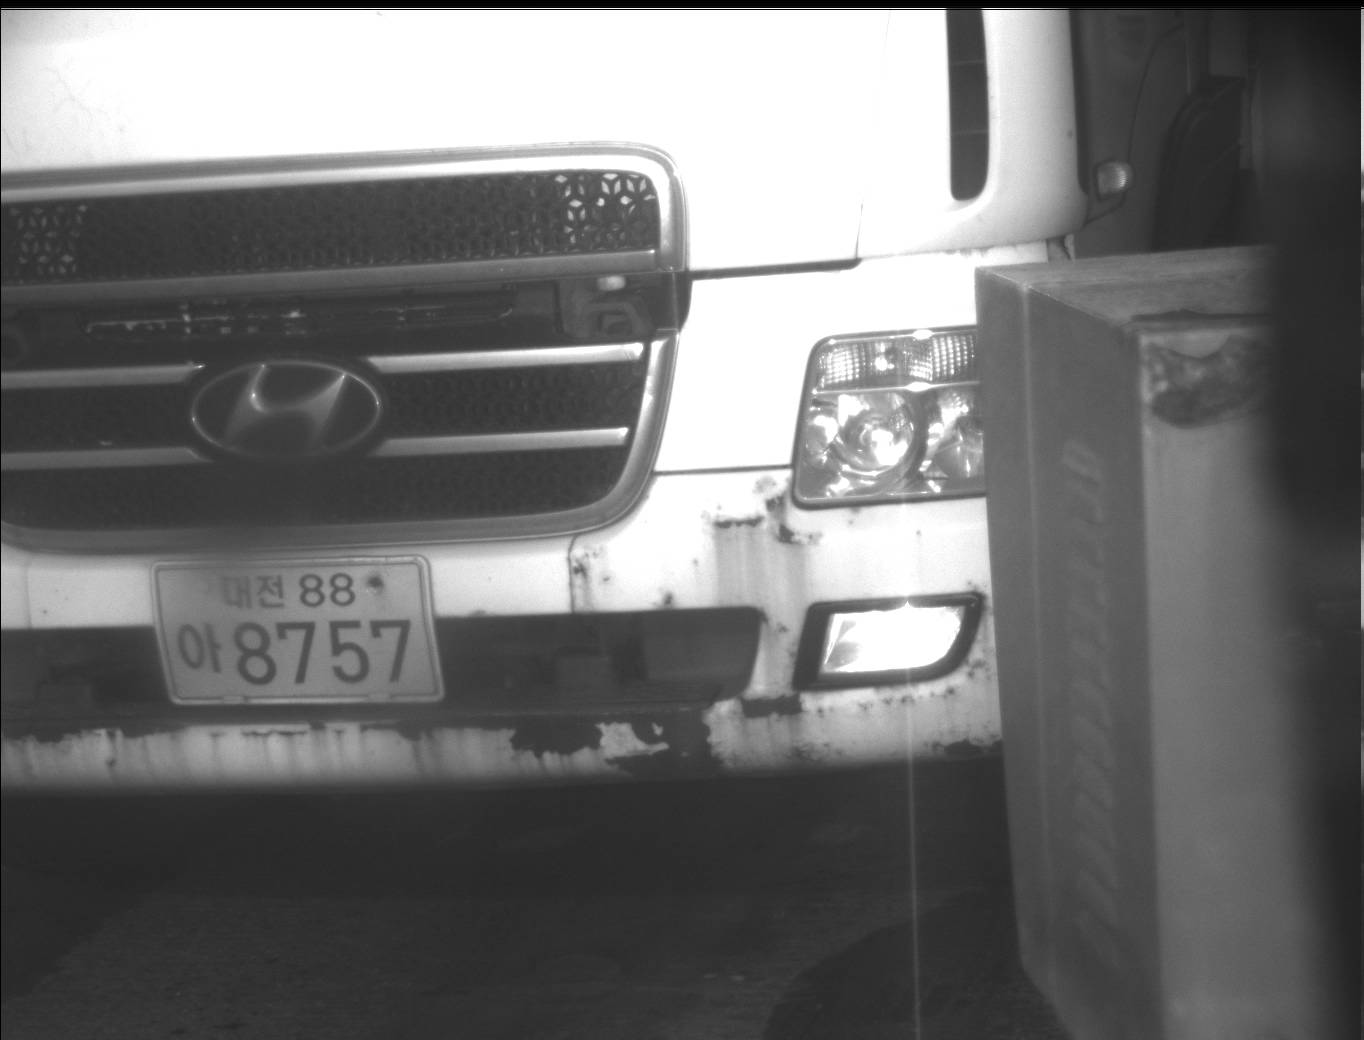car: (1, 1, 985, 804)
plate: (150, 557, 445, 704)
